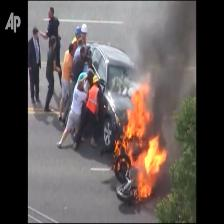fire: (115, 84, 167, 201)
